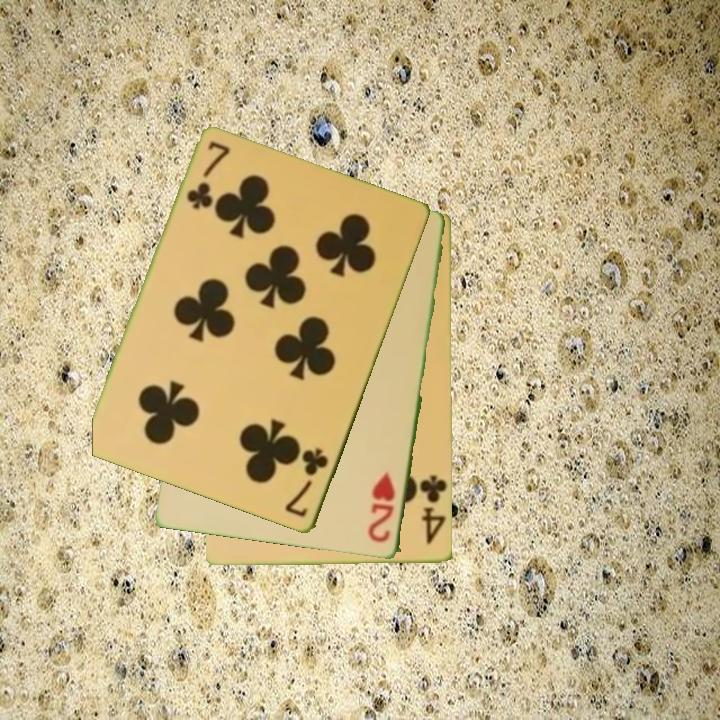2h: (365, 469, 398, 546)
4c: (414, 472, 449, 547)
7c: (281, 444, 332, 521), (183, 138, 231, 213)
